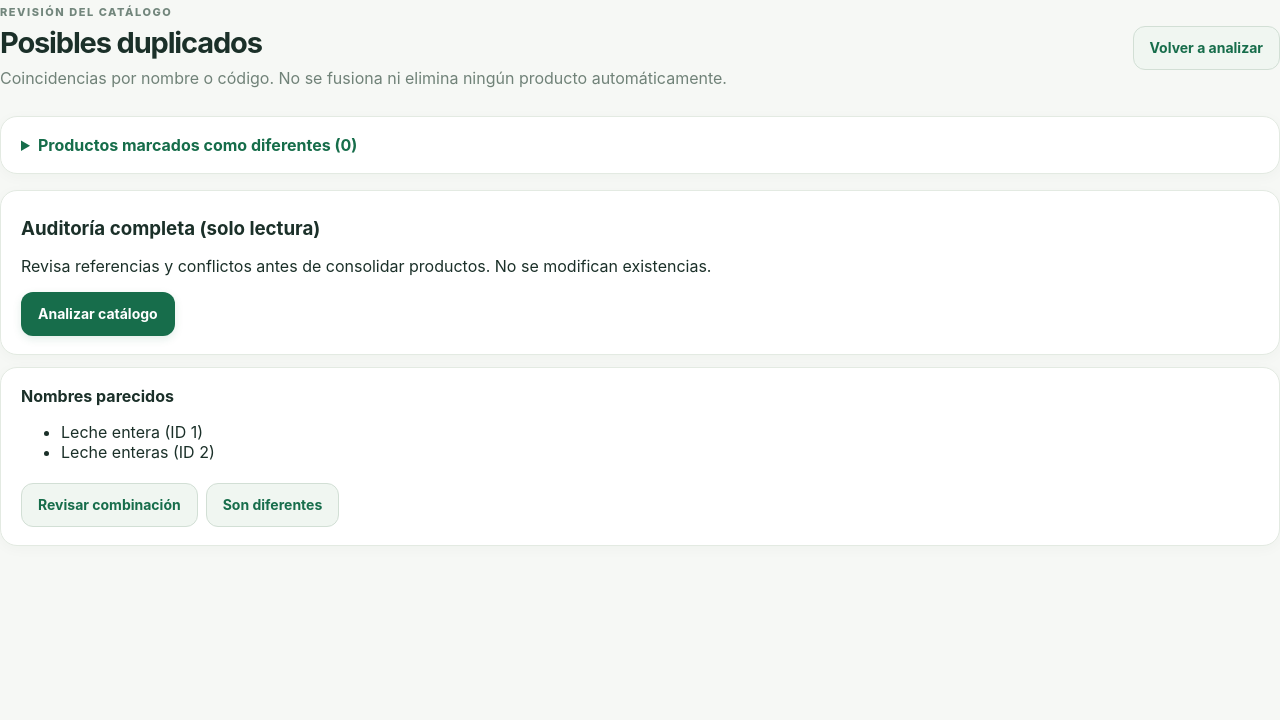
Test: reviews stock-bearing duplicates without writing and shows blockers from the server
This screenshot has width=1280, height=720.
Click the button "Revisar combinación". click: (109,505)
box: [21,483,198,527]
(page scrolled)
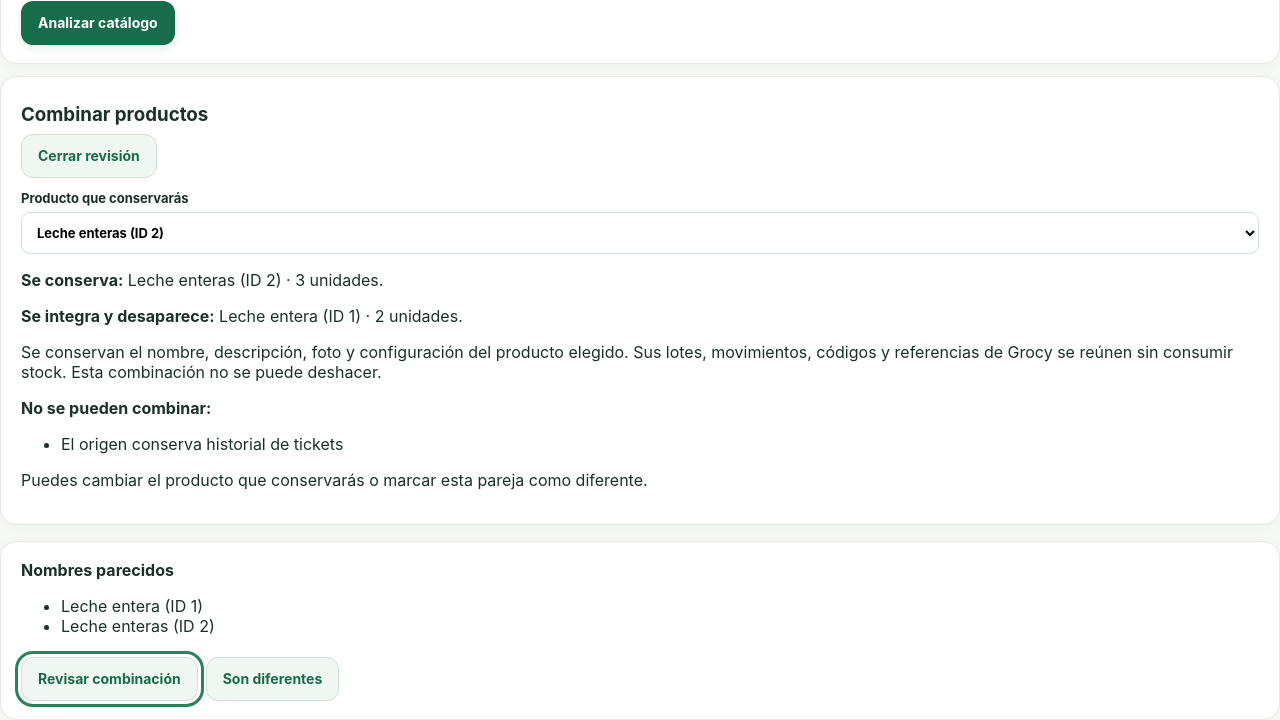
Expected: the list item "El origen conserva historial de tickets" is shown, [61,434,343,454]
